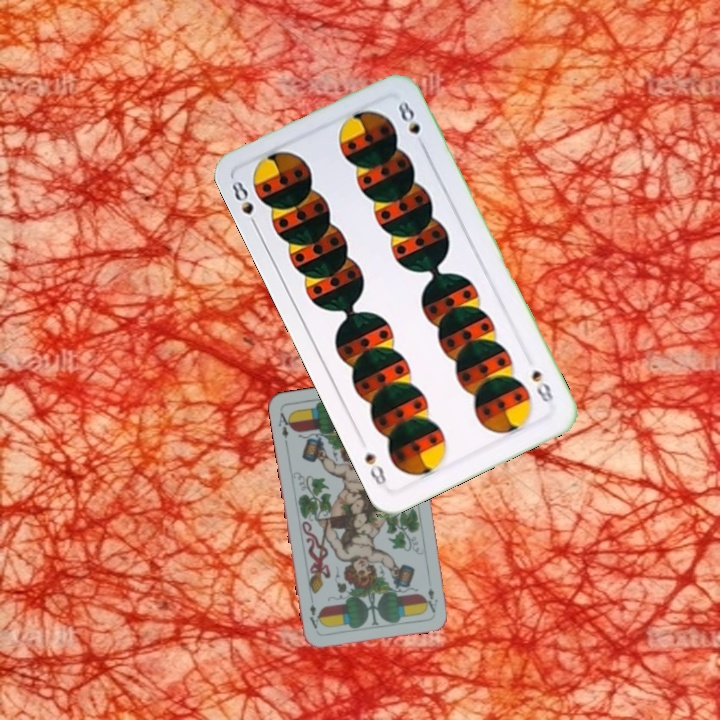EA: (274, 408, 294, 441), (422, 584, 440, 615)
S8: (226, 176, 261, 232), (527, 366, 556, 405)
